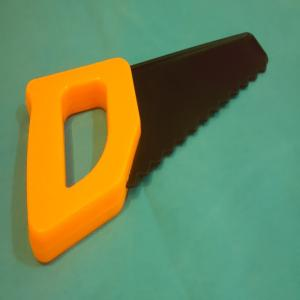serrote: (25, 32, 269, 264)
